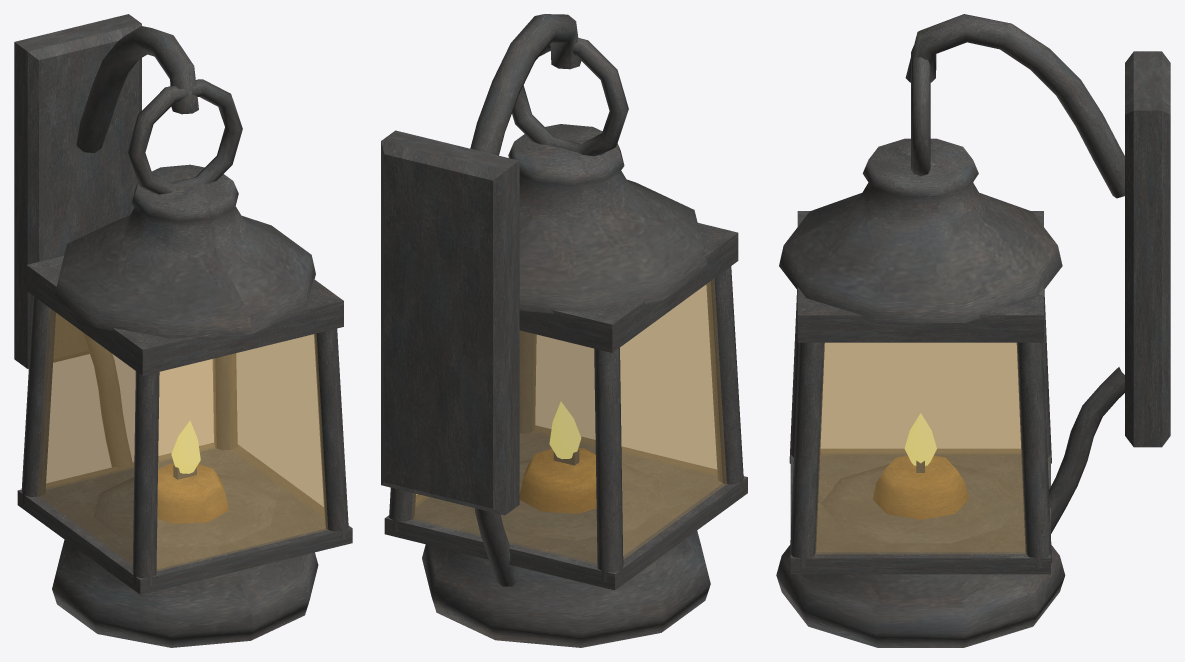
Rendered from city1880-entry-lantern-lit.gltf.
The picture shows the model from 3 angles, left to right: view 1: azimuth 30°, elevation 25°; view 2: azimuth 150°, elevation 25°; view 3: azimuth 270°, elevation 25°; orthographic projection. The views are drawn at different scales.
Parts seen in each view (by area): view 1: Kerosene entry lantern · lit; view 2: Kerosene entry lantern · lit; view 3: Kerosene entry lantern · lit.
Part boxes in pixels (x1=…): Kerosene entry lantern · lit: x1=14, y1=14, x2=352, y2=647; Kerosene entry lantern · lit: x1=381, y1=14, x2=747, y2=647; Kerosene entry lantern · lit: x1=776, y1=14, x2=1170, y2=647.
Bounding box in the file's own units: 0.253 × 0.5865 × 0.363.
3 materials, 1 textured.
